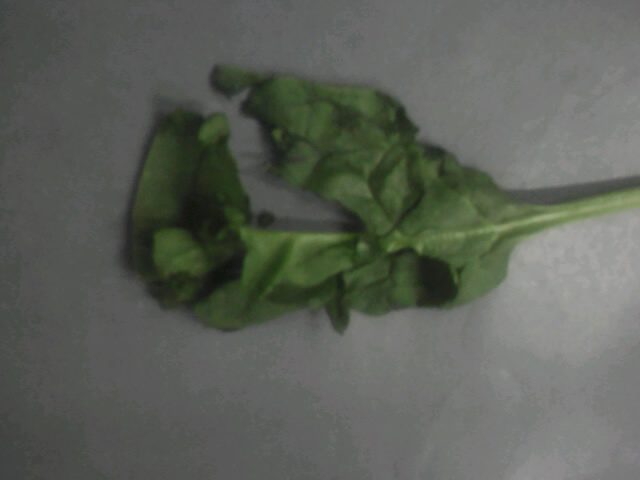yellow: (117, 56, 555, 363)
